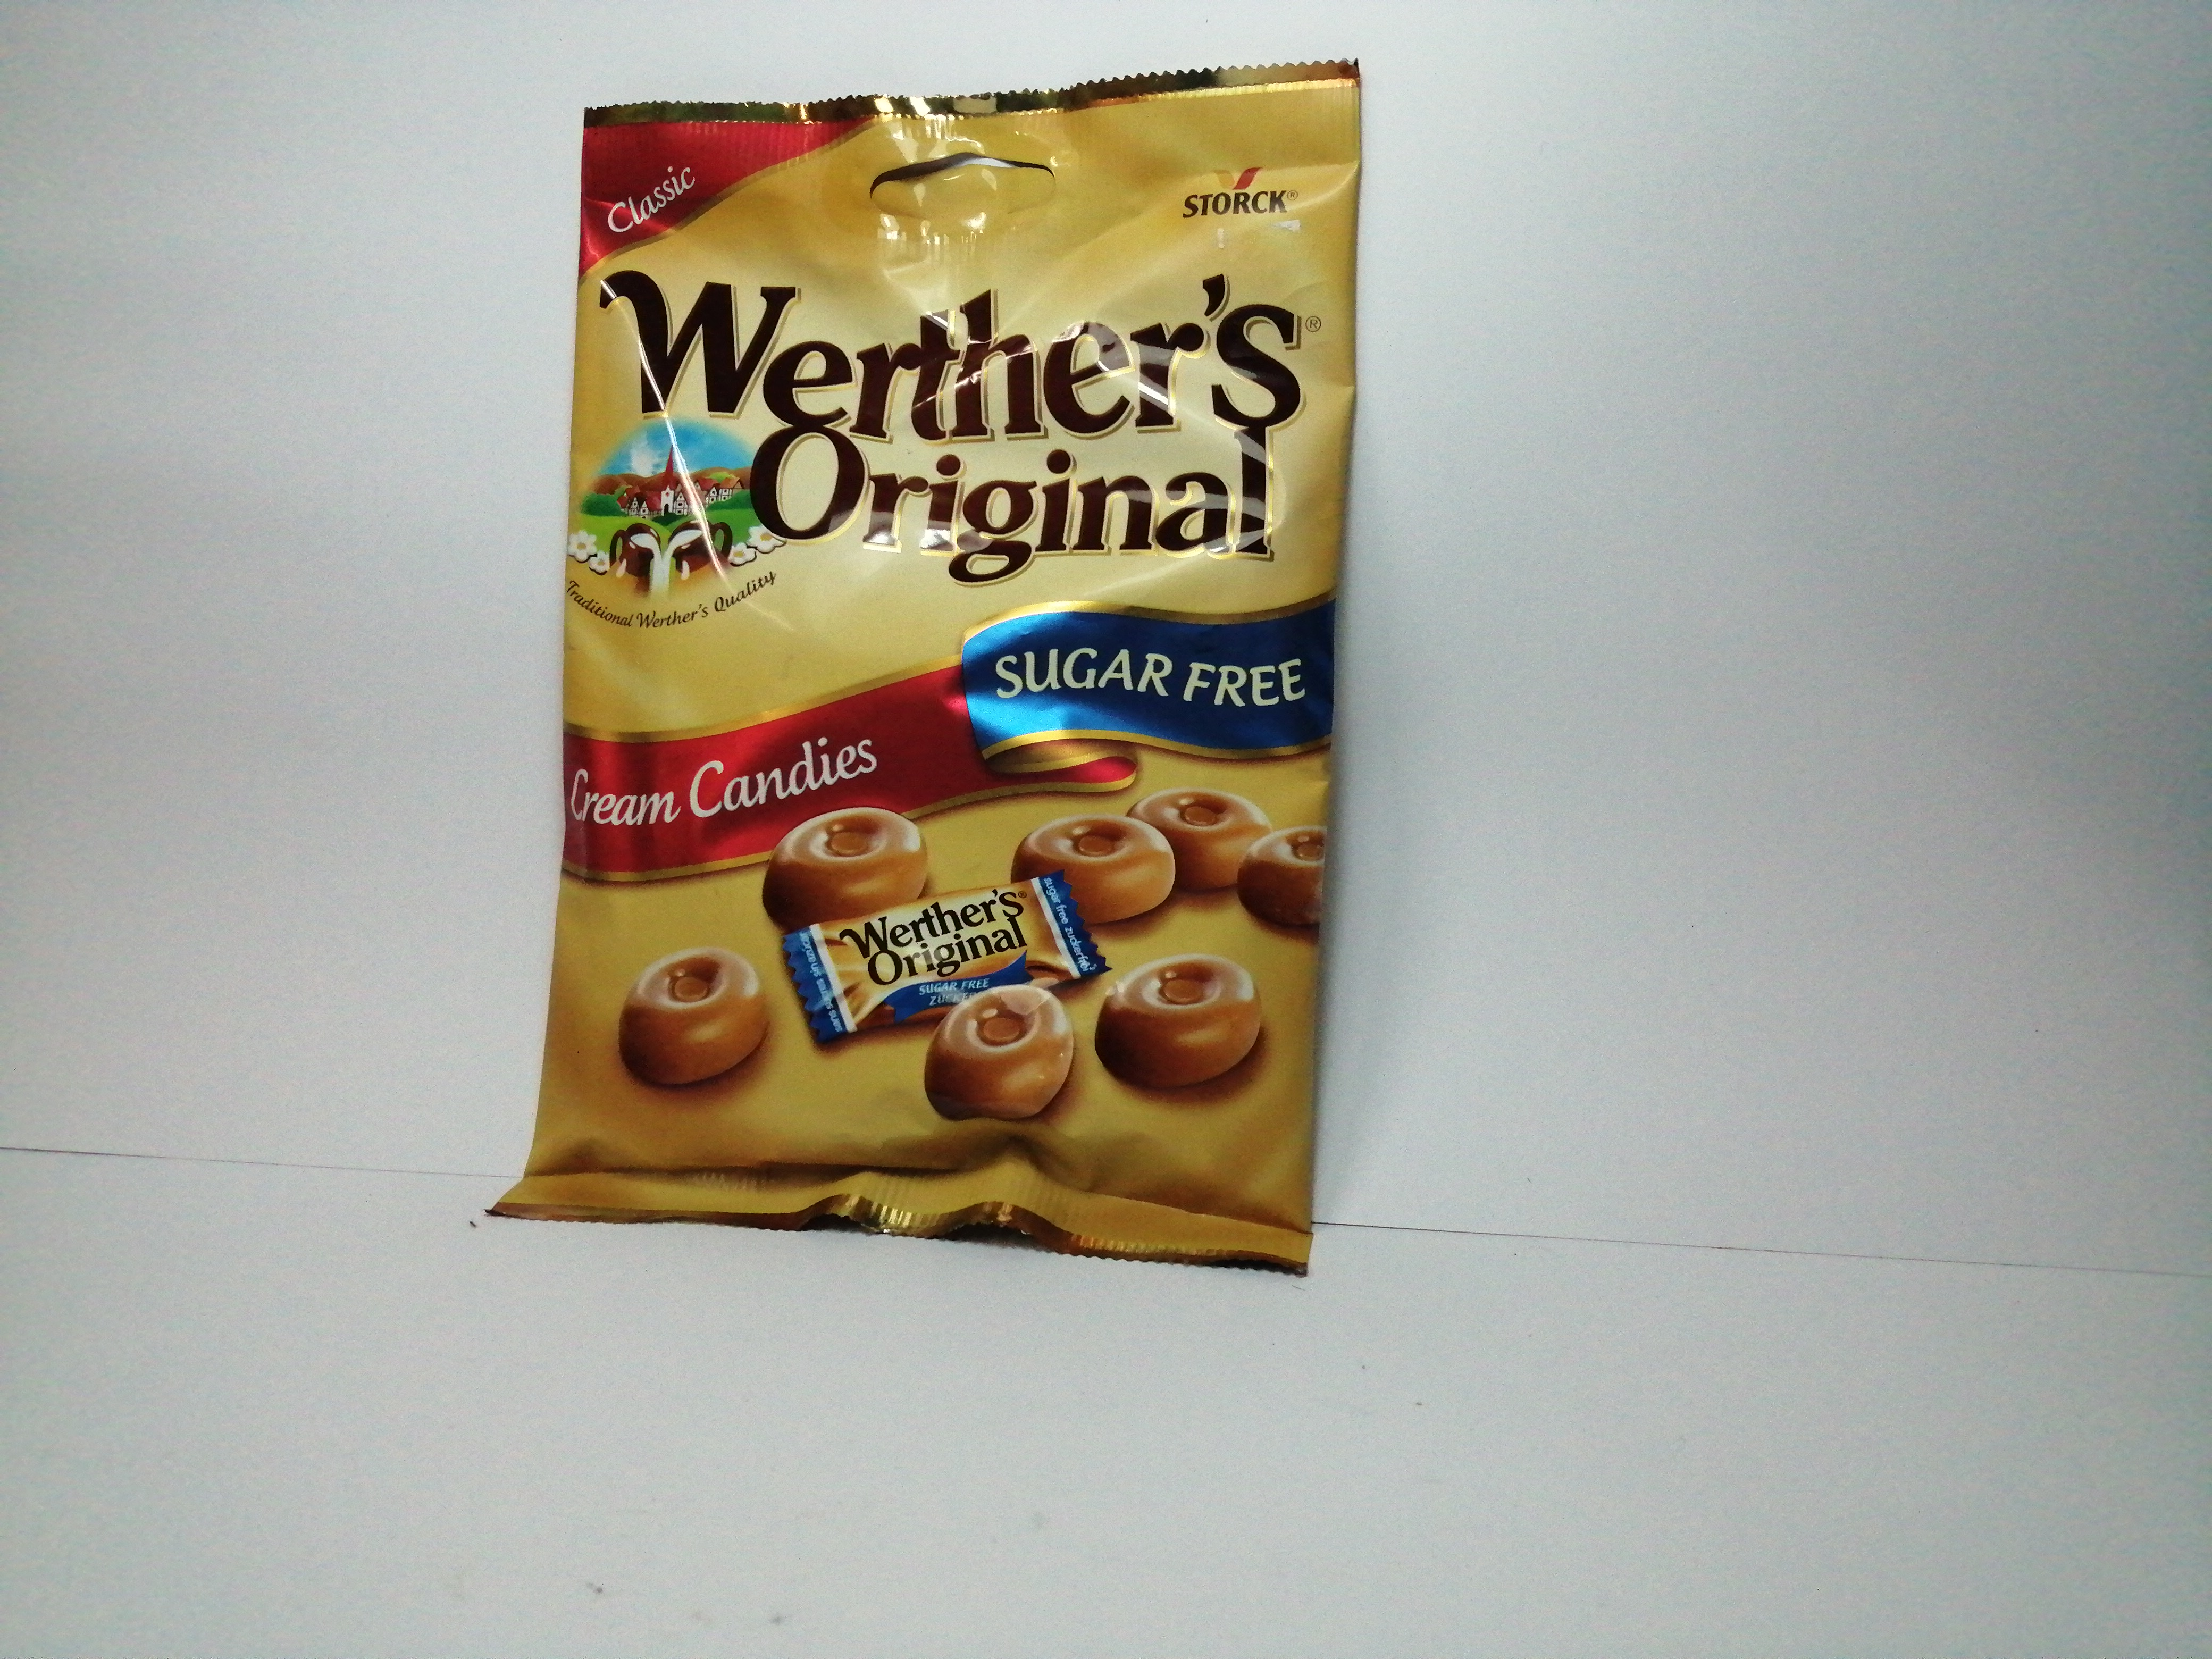dulces: (477, 59, 1362, 1286)
